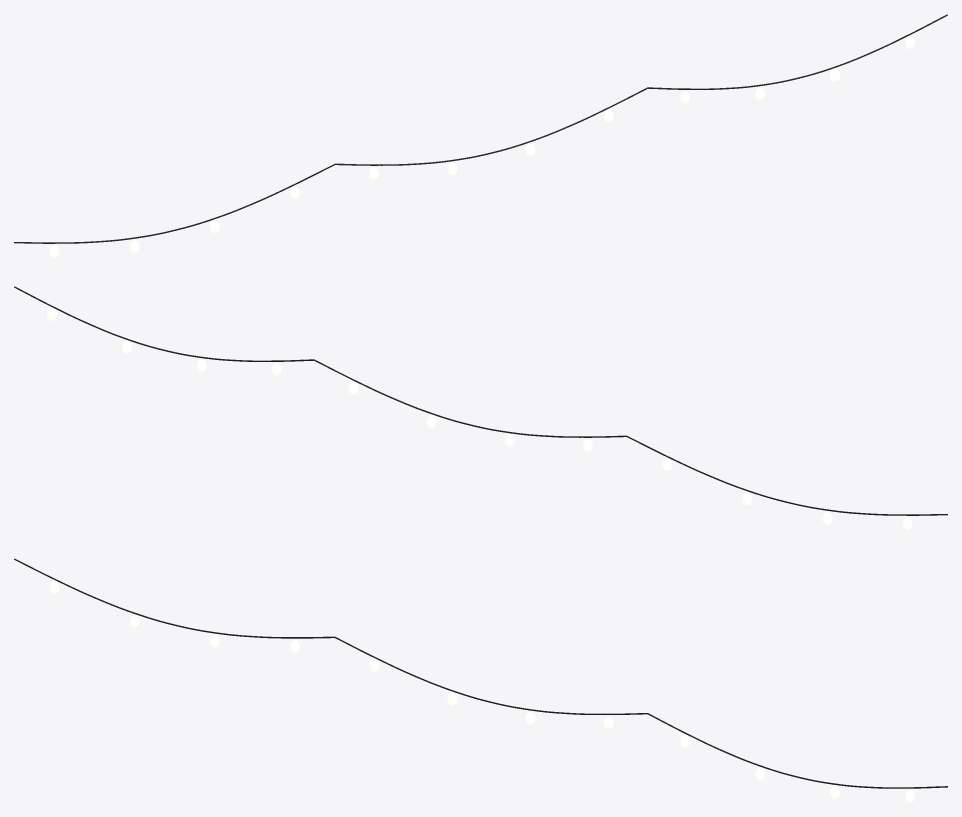
The model's file is festoon-9a96c031.glb.
3 renders of one model, top to bottom at view 1: azimuth 30°, elevation 25°; view 2: azimuth 150°, elevation 25°; view 3: azimuth 330°, elevation 25°, orthographic.
Parts seen in each view (by area): view 1: Inspect · Festoon · cable.001, Inspect · Festoon · cable, Inspect · Festoon · cable.002; view 2: Inspect · Festoon · cable.001, Inspect · Festoon · cable, Inspect · Festoon · cable.002; view 3: Inspect · Festoon · cable, Inspect · Festoon · cable.001, Inspect · Festoon · cable.002.
Part boxes in pixels (x1,y1,x2,y2): Inspect · Festoon · cable.001: (335,87,647,165); Inspect · Festoon · cable: (14,164,335,243); Inspect · Festoon · cable.002: (648,14,947,89); Inspect · Festoon · cable.001: (314,359,626,437); Inspect · Festoon · cable: (626,436,947,515); Inspect · Festoon · cable.002: (14,286,313,361); Inspect · Festoon · cable: (14,558,334,638); Inspect · Festoon · cable.001: (334,637,647,714); Inspect · Festoon · cable.002: (647,713,947,788).
Bounding box in the file's own units: 5.82 × 0.2375 × 0.056.
